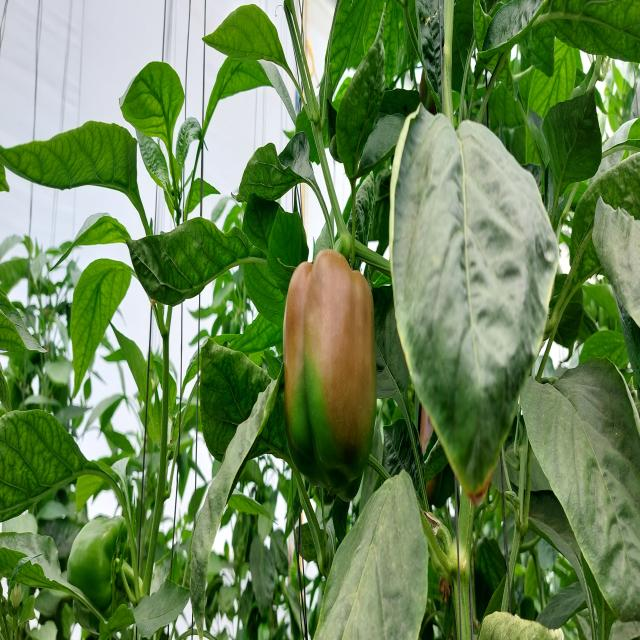BrownishRed--Can-be-Harvested: (283, 260, 378, 494)
